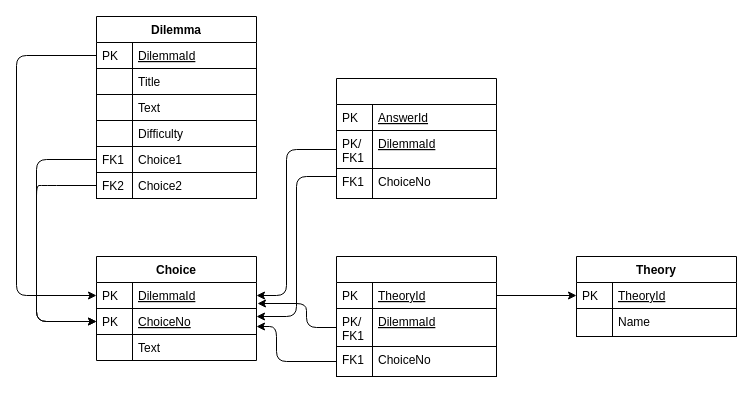
Image size: 753x393. Some labels were removed from this diagram. The box of each missing label's shape, as (x1, y1, x2, y2) in pixels:
Theory_answer: (336, 256, 496, 376)
User_answer: (336, 78, 496, 198)
